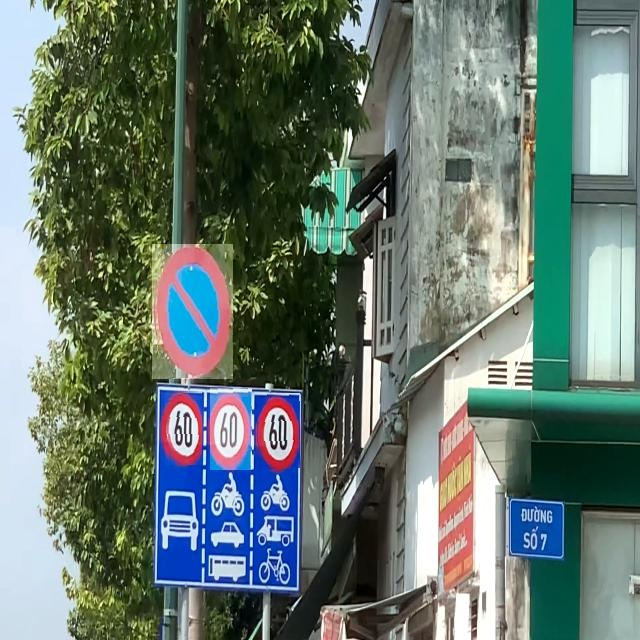bien_chi_dan: (152, 244, 233, 379), (255, 393, 300, 470), (210, 388, 252, 470), (165, 391, 202, 465)
